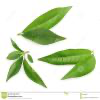Peach leaf: (22, 5, 73, 34), (36, 47, 93, 68), (61, 53, 96, 80), (21, 27, 68, 45), (23, 58, 48, 89), (6, 56, 23, 84), (10, 37, 24, 52), (5, 51, 24, 60), (27, 53, 34, 63)
